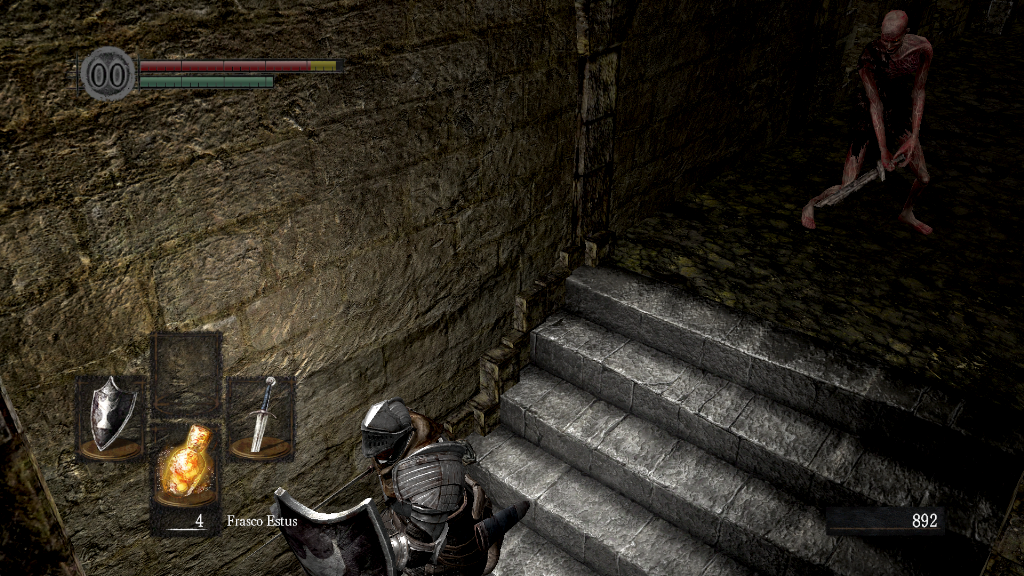health: (138, 58, 343, 71)
hollow: (797, 10, 939, 238)
humanity: (80, 45, 136, 102)
player: (266, 400, 531, 576)
souls: (825, 506, 945, 536)
stamina: (138, 74, 274, 88)
